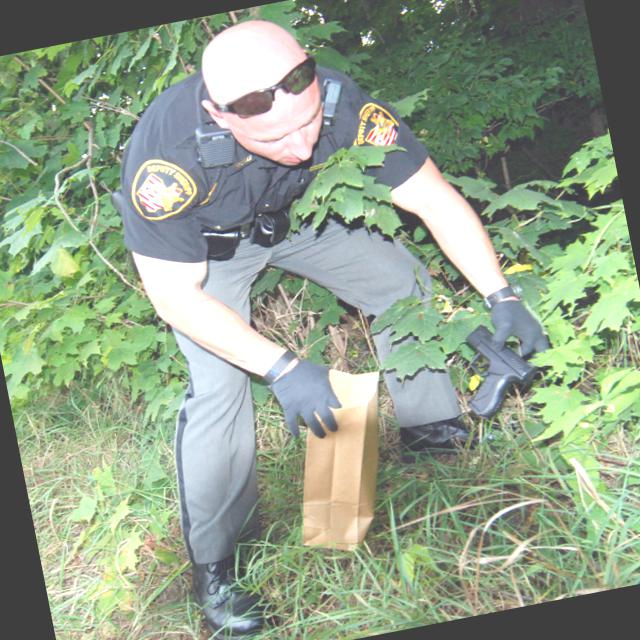handgun: (447, 314, 540, 422)
